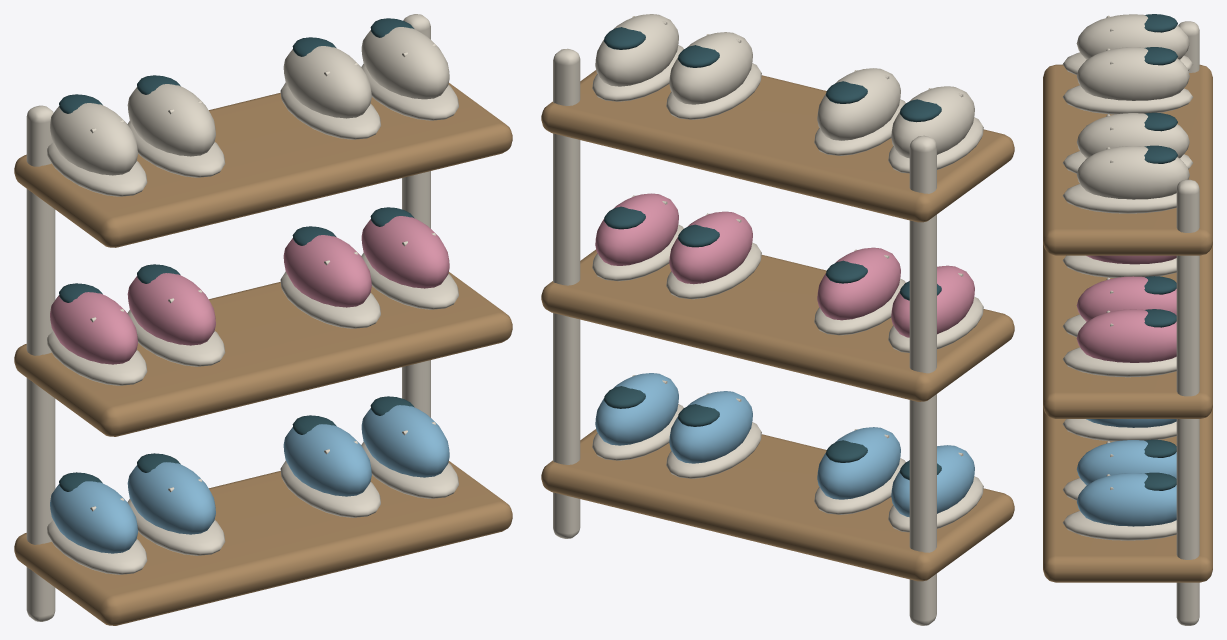
Rendered from cl_sneakers.glb.
3 renders of one model, left to right at view 1: azimuth 30°, elevation 25°; view 2: azimuth 150°, elevation 25°; view 3: azimuth 270°, elevation 25°, orthographic. The views are drawn at different scales.
Parts seen in each view (by area): view 1: prop; view 2: prop; view 3: prop.
Boxes of the visible parts, x1,y1,x2,y2 form: prop: [14, 14, 512, 625]; prop: [541, 14, 1014, 625]; prop: [1043, 14, 1212, 625].
Bounding box in the file's own units: 1.16 × 1.43 × 0.48.
